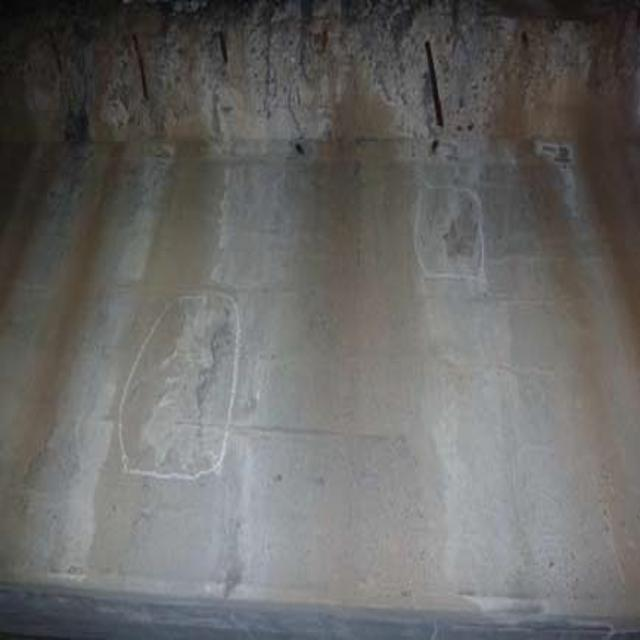spalling: (42, 12, 544, 158), (126, 297, 250, 493), (410, 192, 504, 292)
